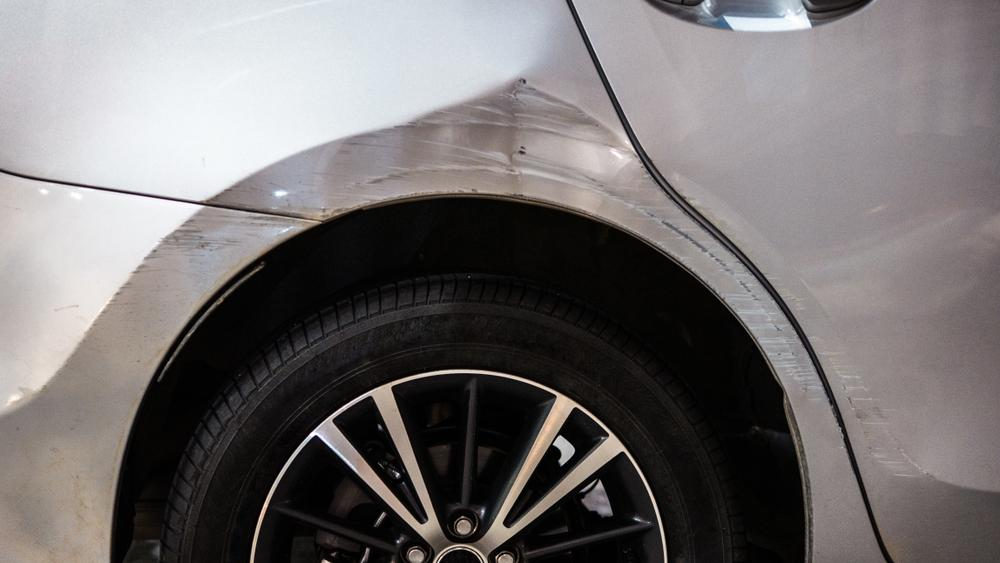dent: (318, 80, 636, 212)
scratch: (597, 167, 827, 397), (99, 211, 299, 314), (824, 348, 937, 483)
